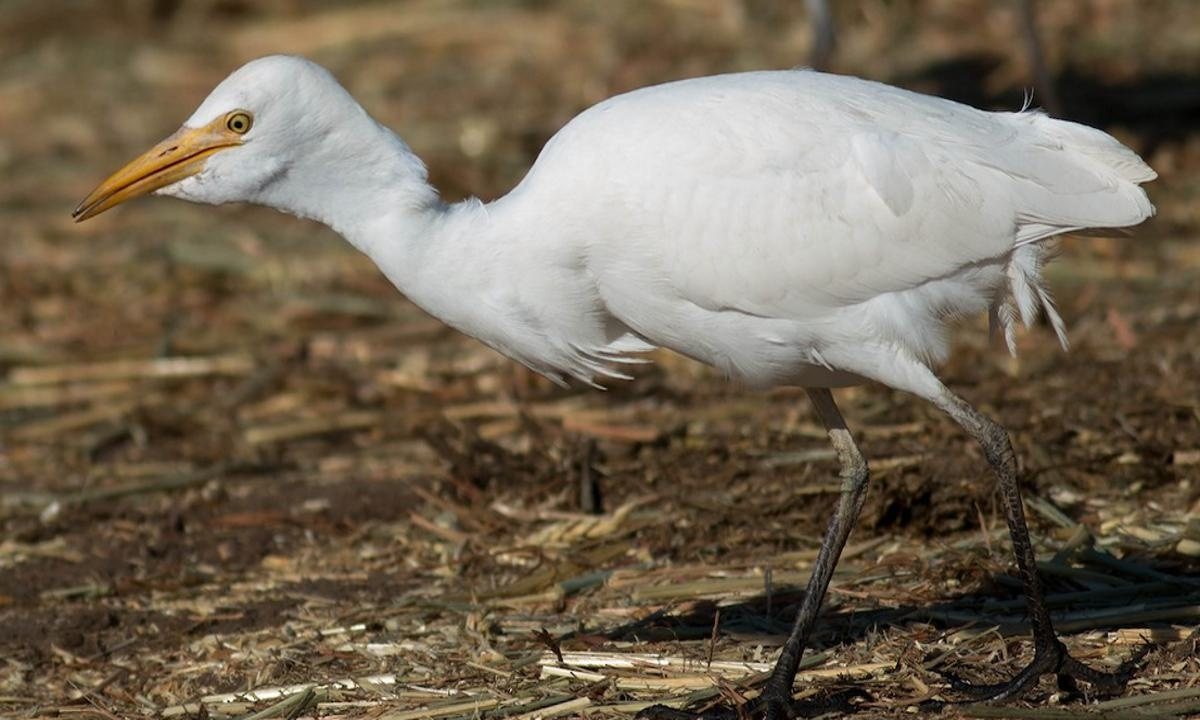egret: (69, 39, 1169, 713)
